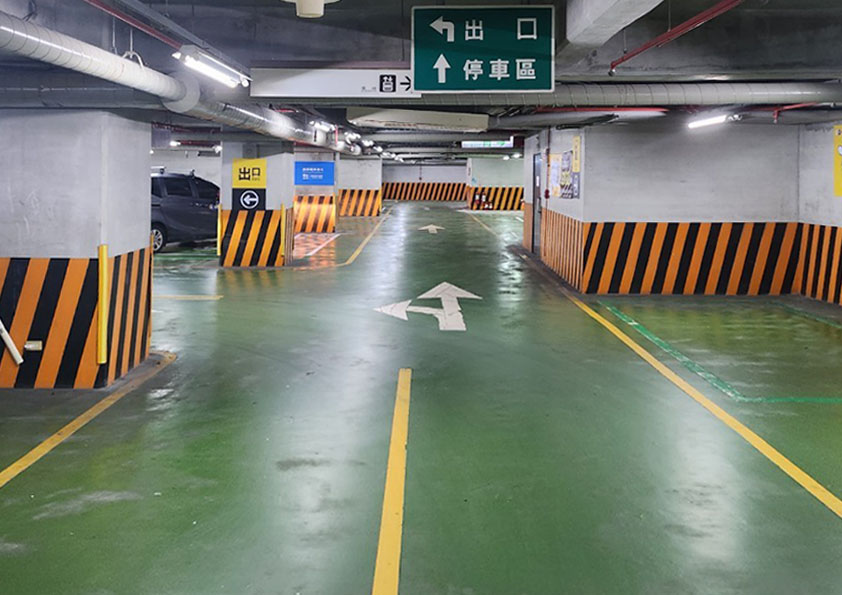car: (151, 161, 220, 254)
